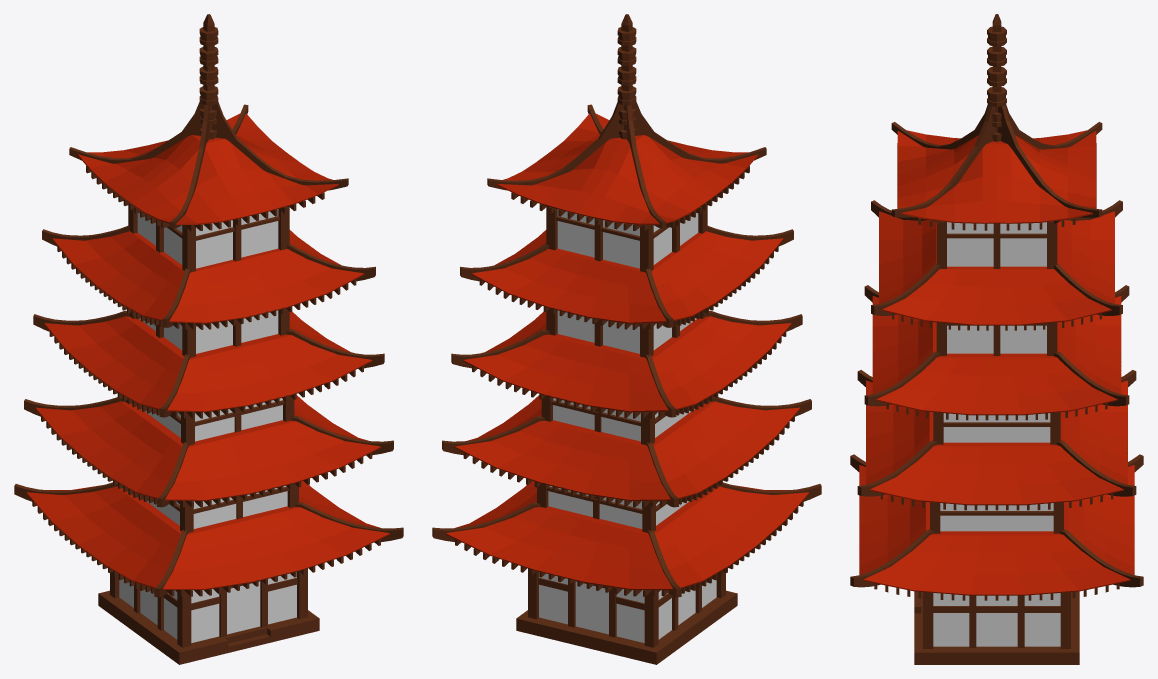
Rendered from pagoda.fbx.
3 views of the same model, side by side, from view 1: azimuth 30°, elevation 25°; view 2: azimuth 150°, elevation 25°; view 3: azimuth 270°, elevation 25° (orthographic).
Parts seen in each view (by area): view 1: Cube.008; view 2: Cube.008; view 3: Cube.008.
Boxes of the visible parts, x1,y1,x2,y2 form: Cube.008: (14,14,403,664); Cube.008: (432,14,821,664); Cube.008: (850,14,1143,664).
Size of the model in its own units: 426 by 986 by 426.
